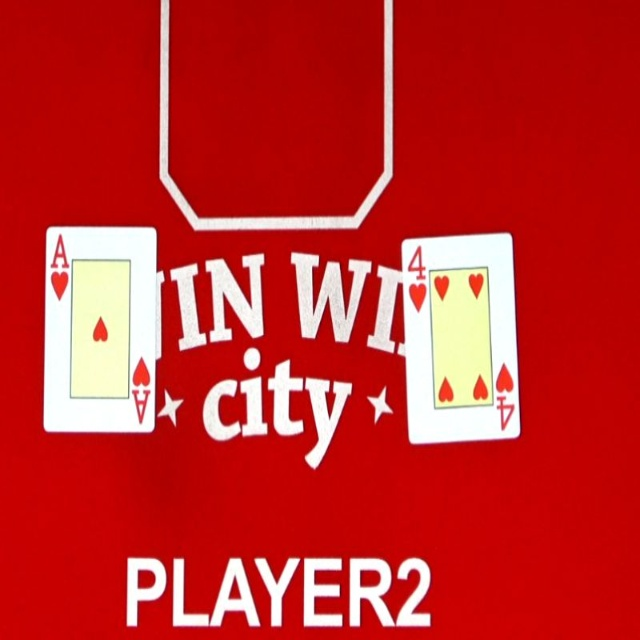4H: (402, 236, 430, 315), (494, 359, 521, 434)
AH: (128, 352, 157, 427), (46, 228, 73, 302)
